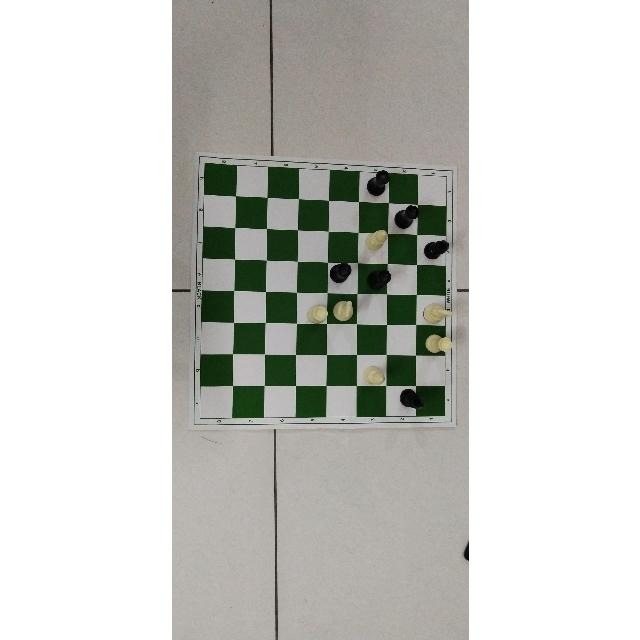black-bishop: (397, 388, 427, 412), (423, 240, 449, 260)
black-rook: (366, 170, 390, 196), (394, 204, 420, 228), (366, 269, 392, 291), (328, 263, 351, 285)
white-bishop: (361, 363, 385, 386), (365, 228, 387, 251)
white-knight: (421, 303, 452, 323), (332, 300, 354, 322)
white-rook: (425, 334, 451, 353), (306, 304, 328, 324)
